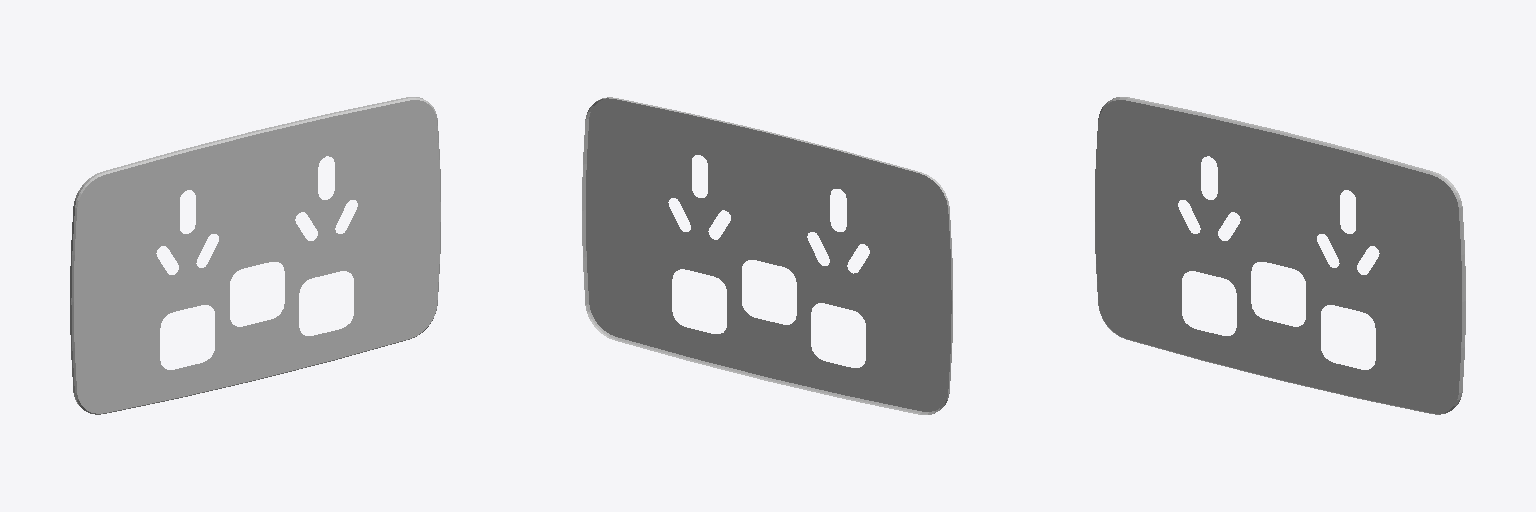
Rendered from original-5.obj.
The picture shows the model from 3 angles: view 1: azimuth 30°, elevation 25°; view 2: azimuth 150°, elevation 25°; view 3: azimuth 330°, elevation 25°; orthographic projection.
Parts seen in each view (by area): view 1: #ID57; view 2: #ID57; view 3: #ID57.
Boxes of the visible parts, x1,y1,x2,y2 form: #ID57: [70, 97, 440, 414]; #ID57: [582, 97, 952, 414]; #ID57: [1095, 97, 1465, 414].
Bounding box in the file's own units: 1.77 × 1.14 × 0.0202.